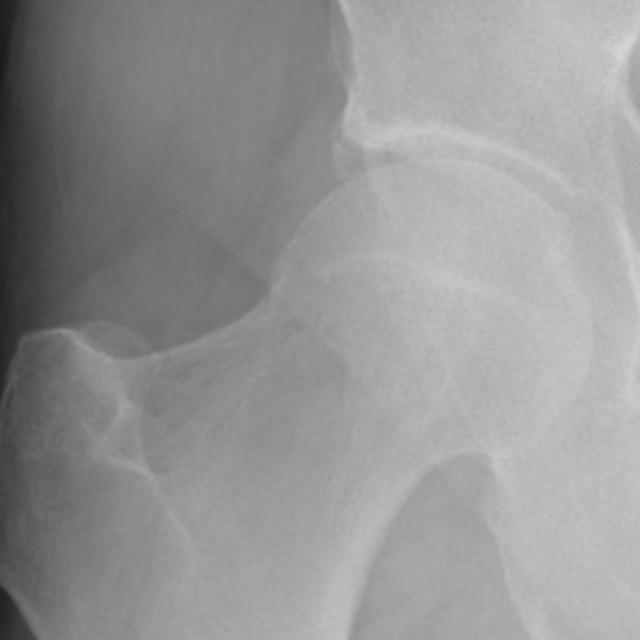Fitted_femural_head: (324, 159, 432, 324)
